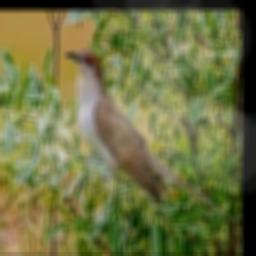Cuckoo: (63, 48, 235, 222)
